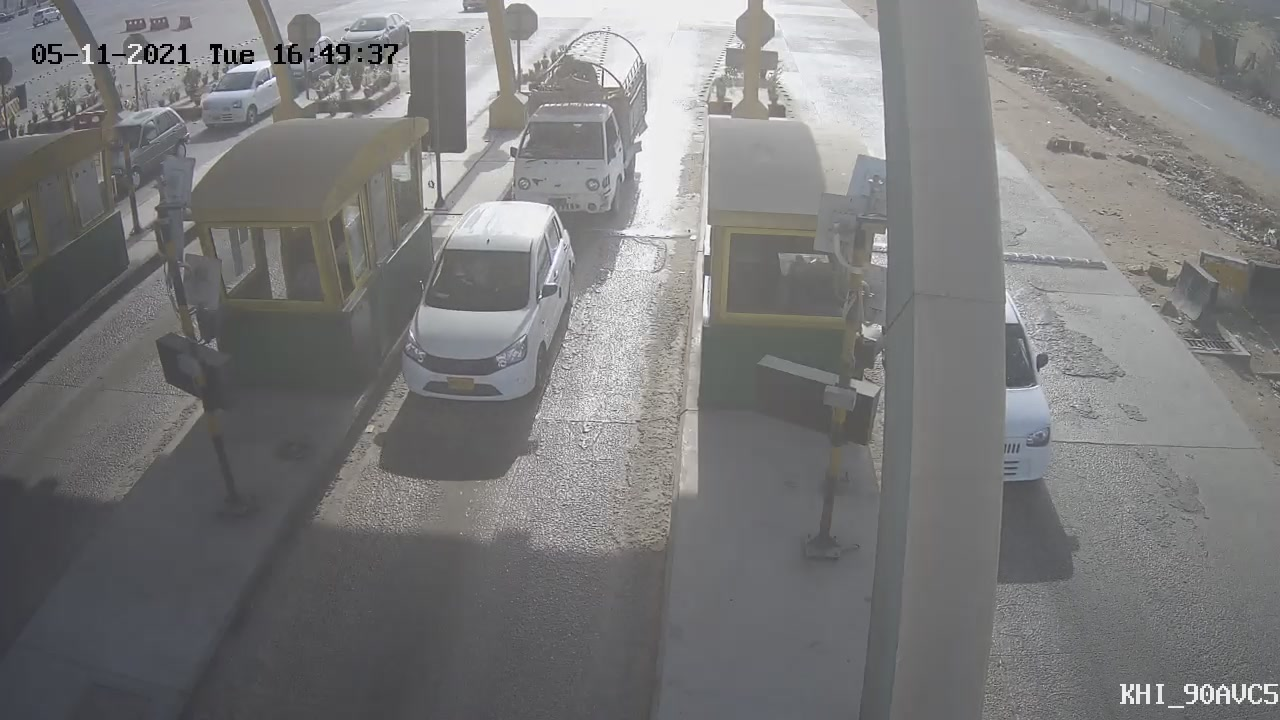F1: (392, 197, 582, 413)
F2: (491, 20, 657, 229)
